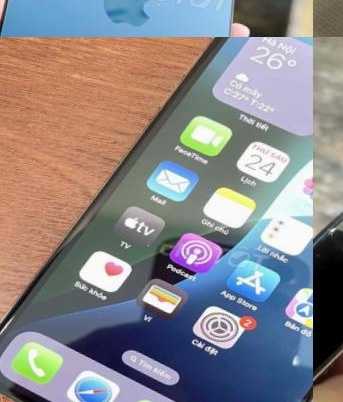scratch: (329, 201, 343, 294)
